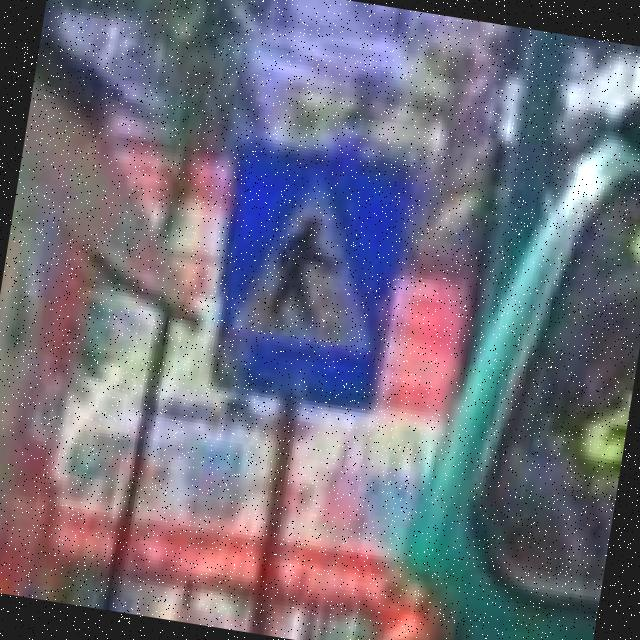Przejscie dla pieszych: (201, 138, 415, 416)
